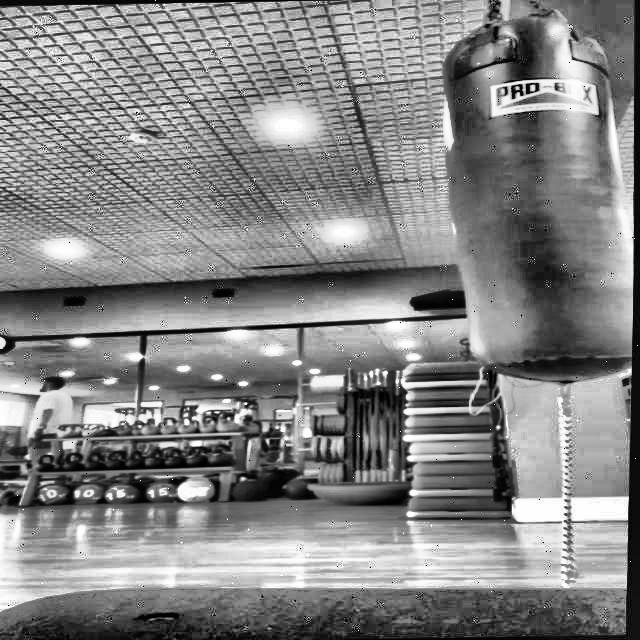boxing-bag: (436, 0, 640, 390)
